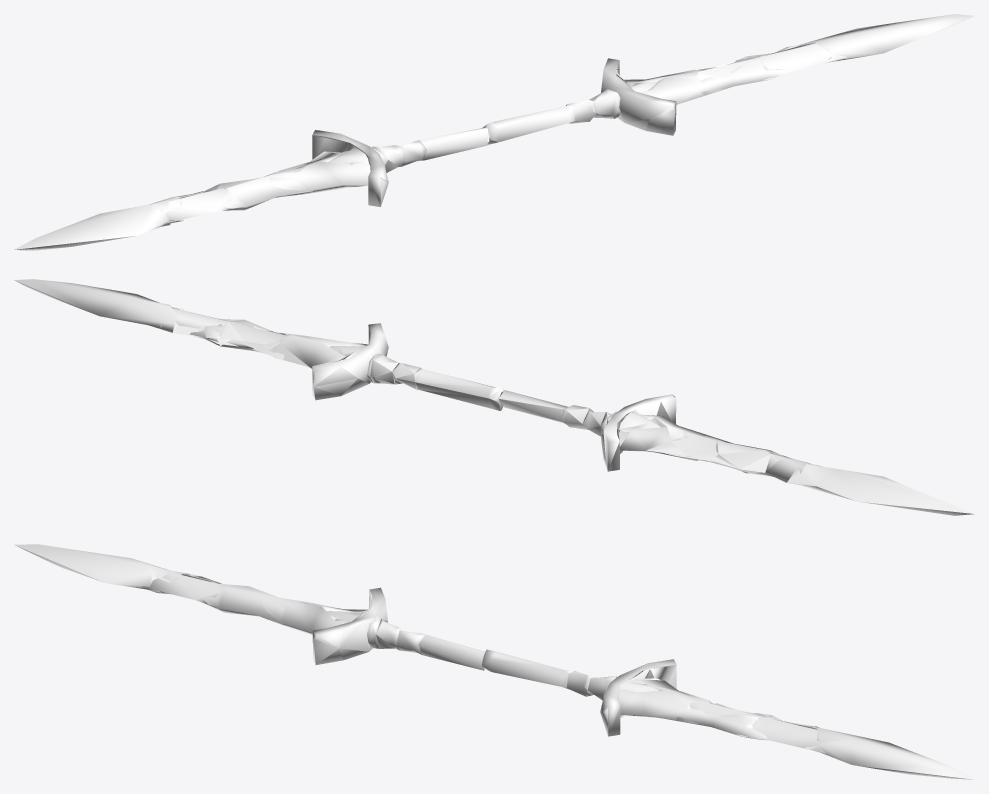
The model's file is ka_pd_gargoylesblackbladeseff.glb.
The picture shows the model from 3 angles, top to bottom: view 1: azimuth 30°, elevation 25°; view 2: azimuth 150°, elevation 25°; view 3: azimuth 330°, elevation 25°; orthographic projection.
Parts seen in each view (by area): view 1: Gargoyle'sBlackBlades_eff; view 2: Gargoyle'sBlackBlades_eff; view 3: Gargoyle'sBlackBlades_eff.
Boxes of the visible parts, x1=… form: Gargoyle'sBlackBlades_eff: x1=14, y1=14, x2=973, y2=250; Gargoyle'sBlackBlades_eff: x1=14, y1=279, x2=973, y2=515; Gargoyle'sBlackBlades_eff: x1=14, y1=544, x2=974, y2=779.
Bounding box in the file's own units: 167 × 5.03 × 20.71.
1 material, 1 textured.
